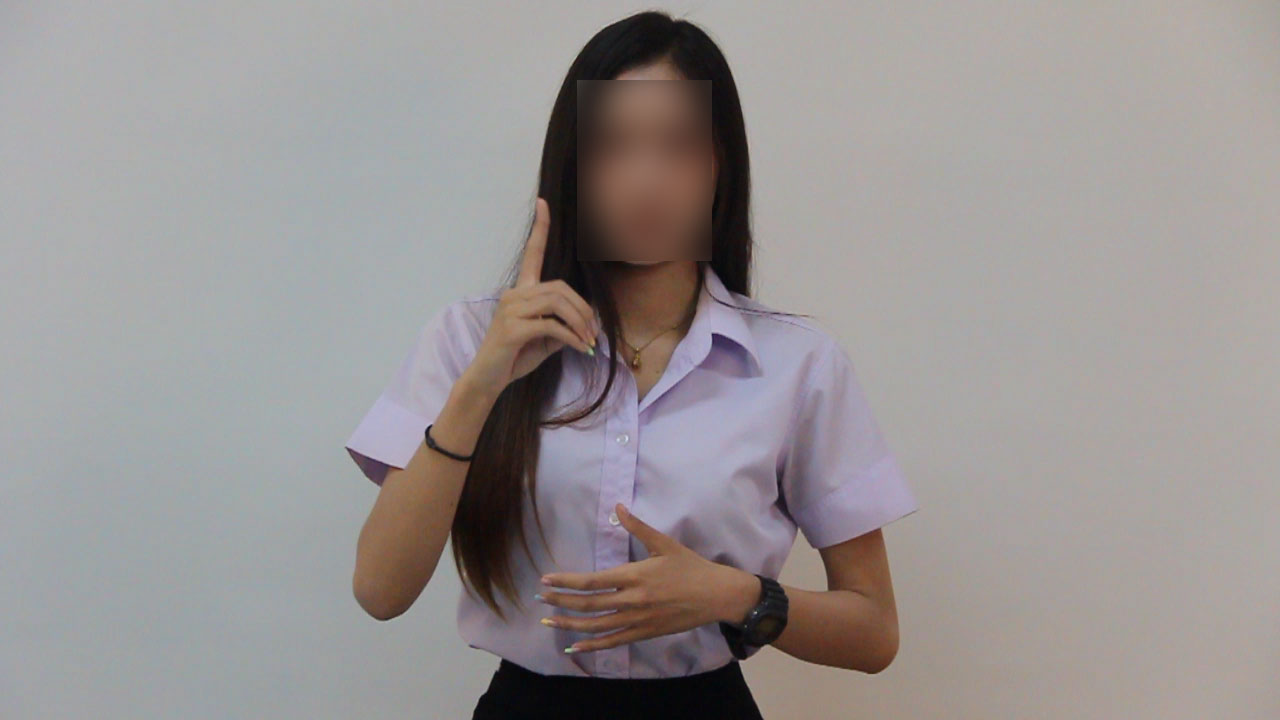dor: (451, 187, 606, 389)
